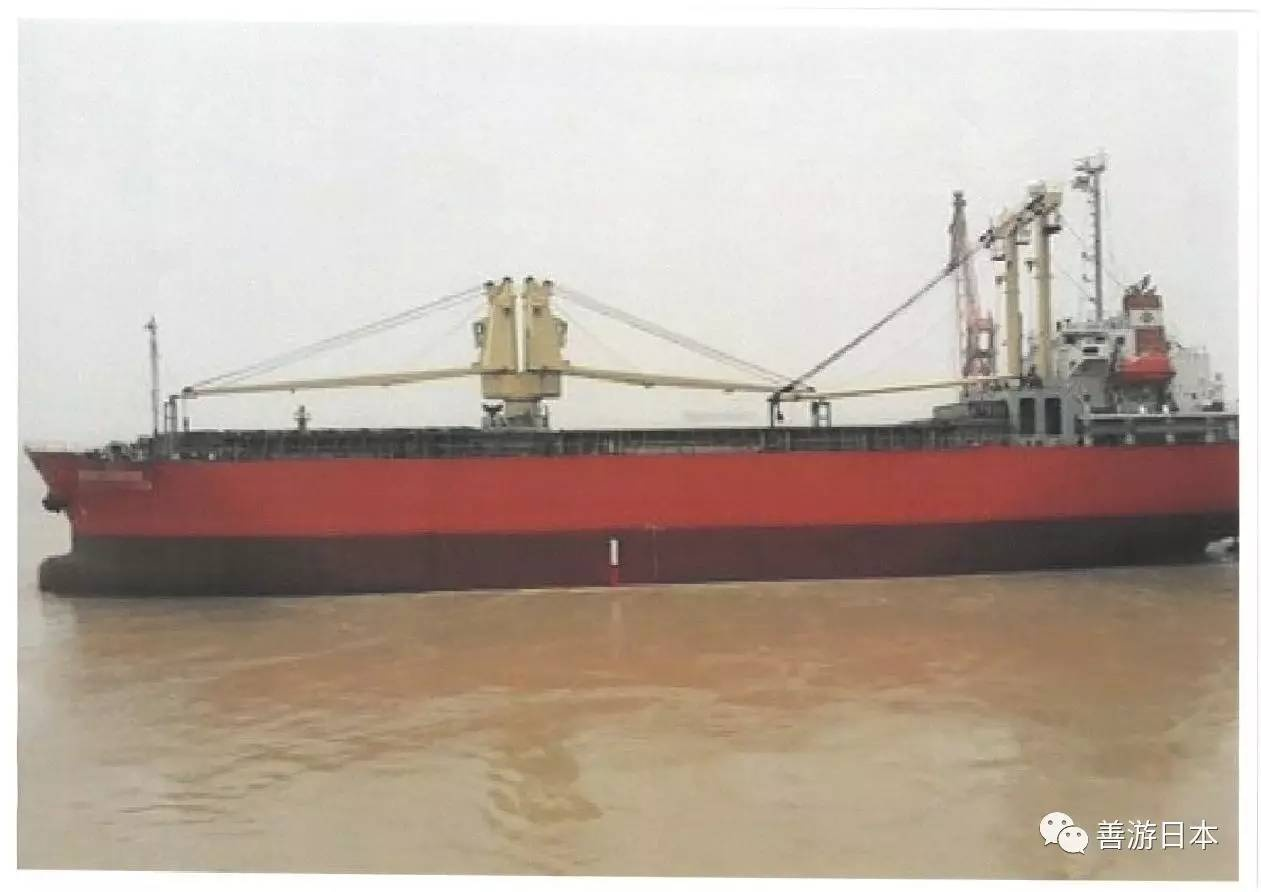Cargoship: (16, 152, 1259, 606)
